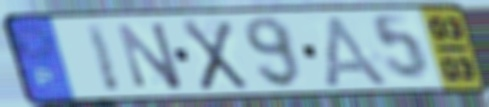5: (366, 11, 436, 86)
9: (242, 14, 304, 91)
A: (319, 12, 395, 89)
I: (81, 20, 125, 95)
N: (113, 19, 187, 92)
X: (178, 17, 252, 93)
